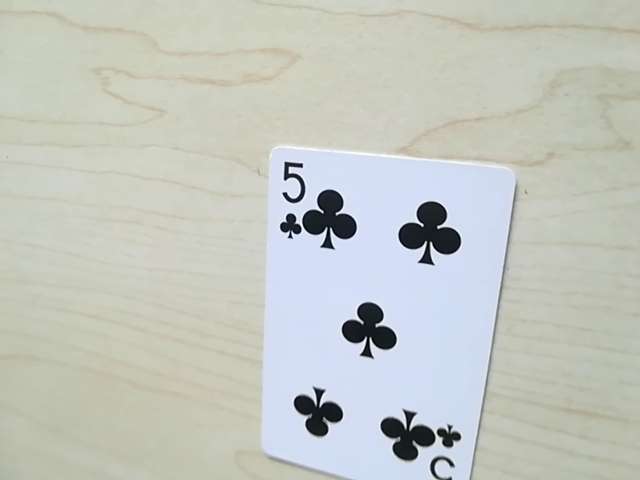mh 5: (271, 155, 316, 238), (416, 424, 462, 480)
